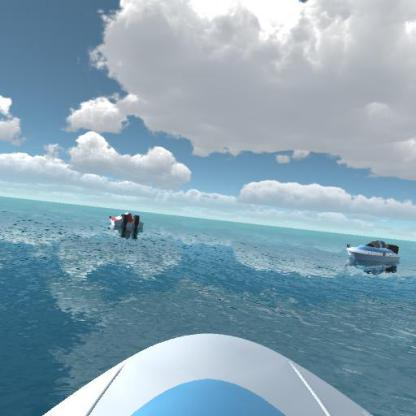usv1: (340, 236, 400, 276)
usv3: (104, 204, 146, 238)
